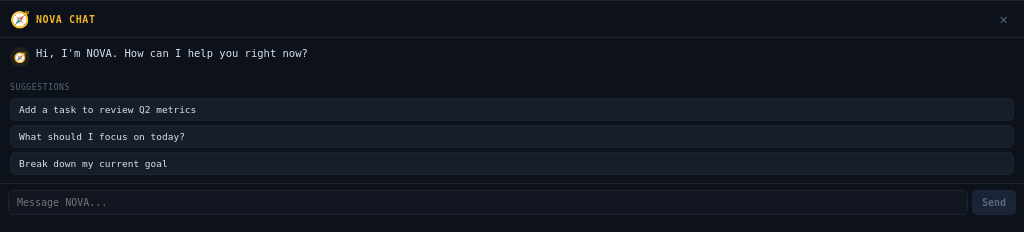
Scenario: NovaCompassChat › handleSend › handles empty response content
Type "hello" into the field with placeholder "Message NOVA..." at (488, 202), box [8,190,968,215]
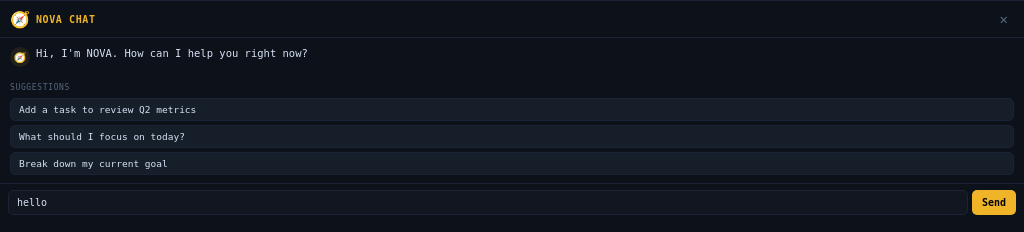
Click the button "Send" at (994, 202), box [972,190,1016,215]
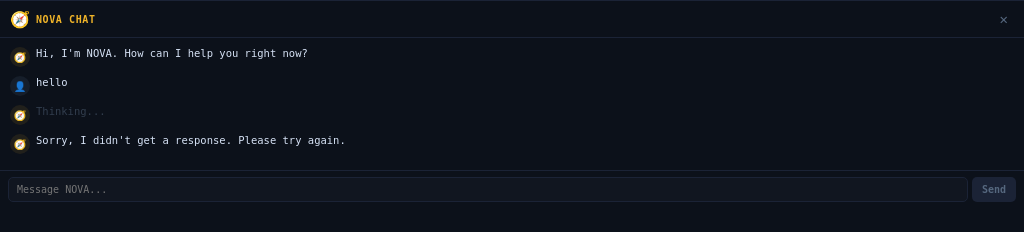
Expected: the text "Sorry, I didn't get a response. Please try again." is shown, [36,134,346,146]
